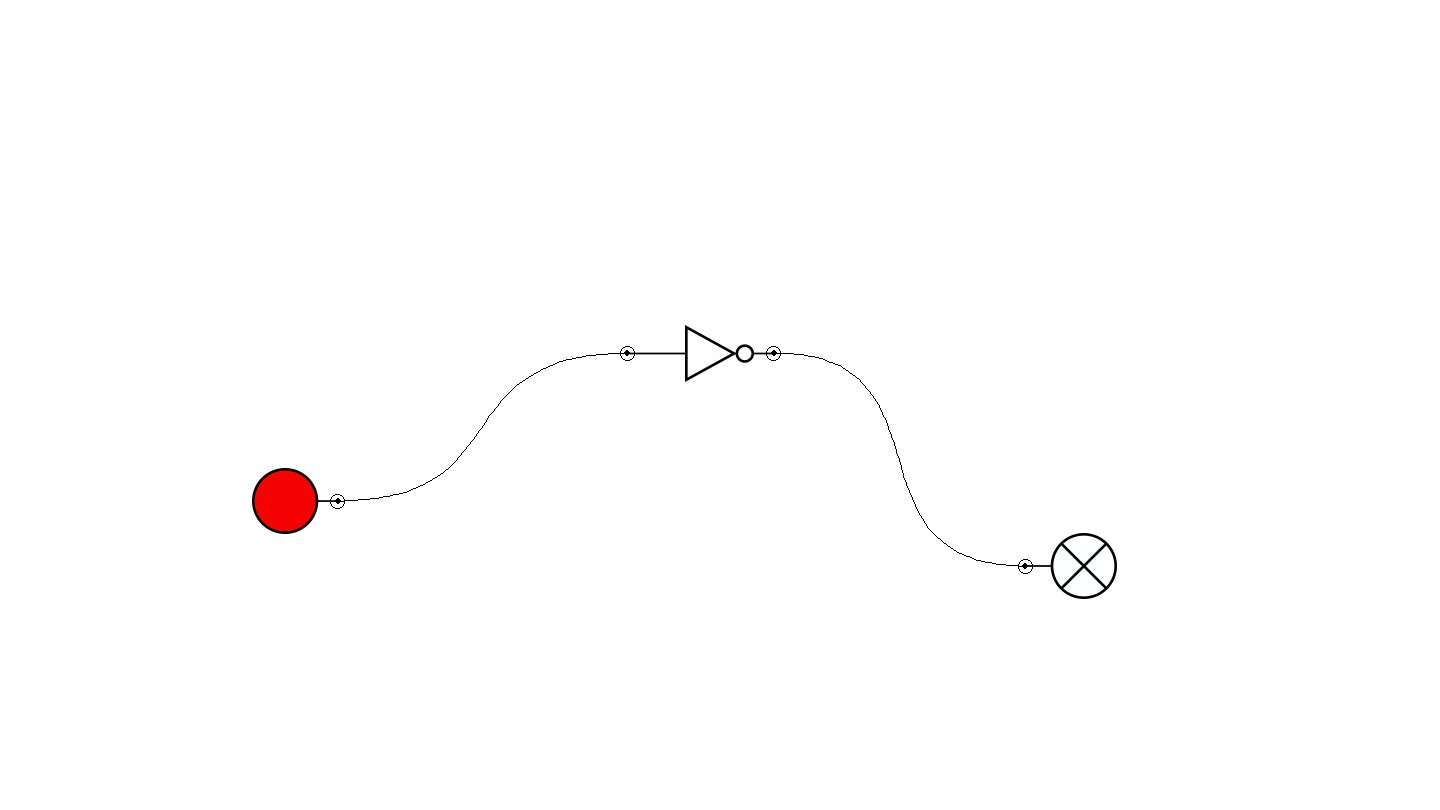bulb: (1018, 533, 1117, 599)
not: (620, 325, 781, 382)
switch_False: (252, 468, 345, 534)
